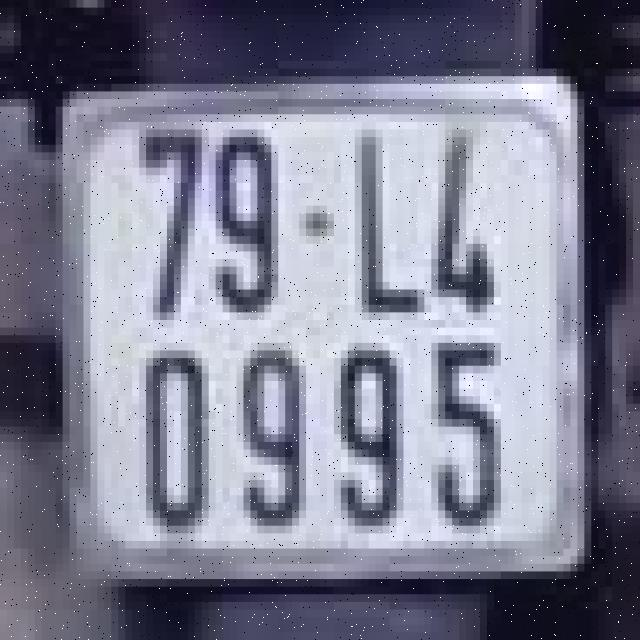0: (129, 347, 219, 522)
4: (435, 114, 504, 320)
5: (424, 332, 515, 537)
7: (129, 126, 212, 324)
9: (230, 347, 313, 537), (327, 343, 410, 533), (212, 122, 289, 320)
L: (348, 122, 431, 320)
